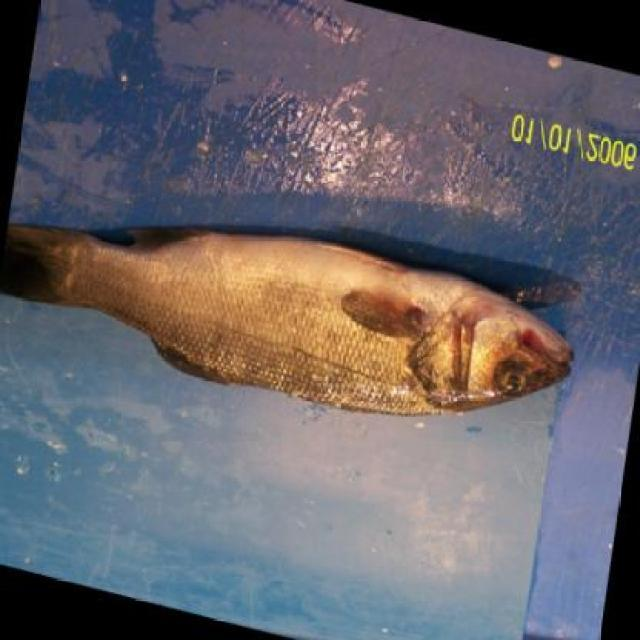Healthy Fish: (2, 215, 581, 422)
